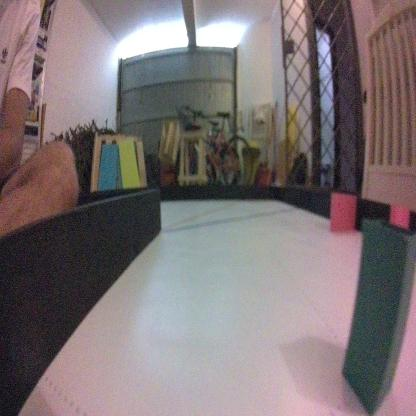green: (340, 214, 412, 406)
magenta: (328, 188, 354, 233)
